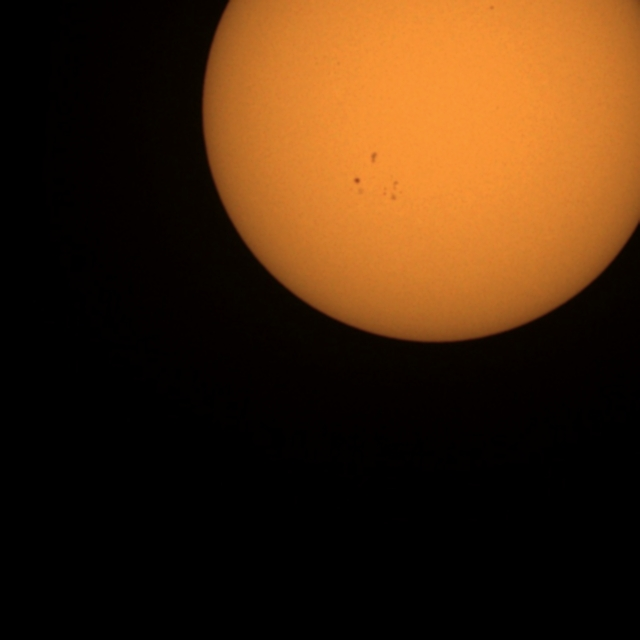sunspot: (382, 178, 402, 203), (352, 176, 365, 197), (369, 151, 379, 165), (488, 4, 496, 12)
